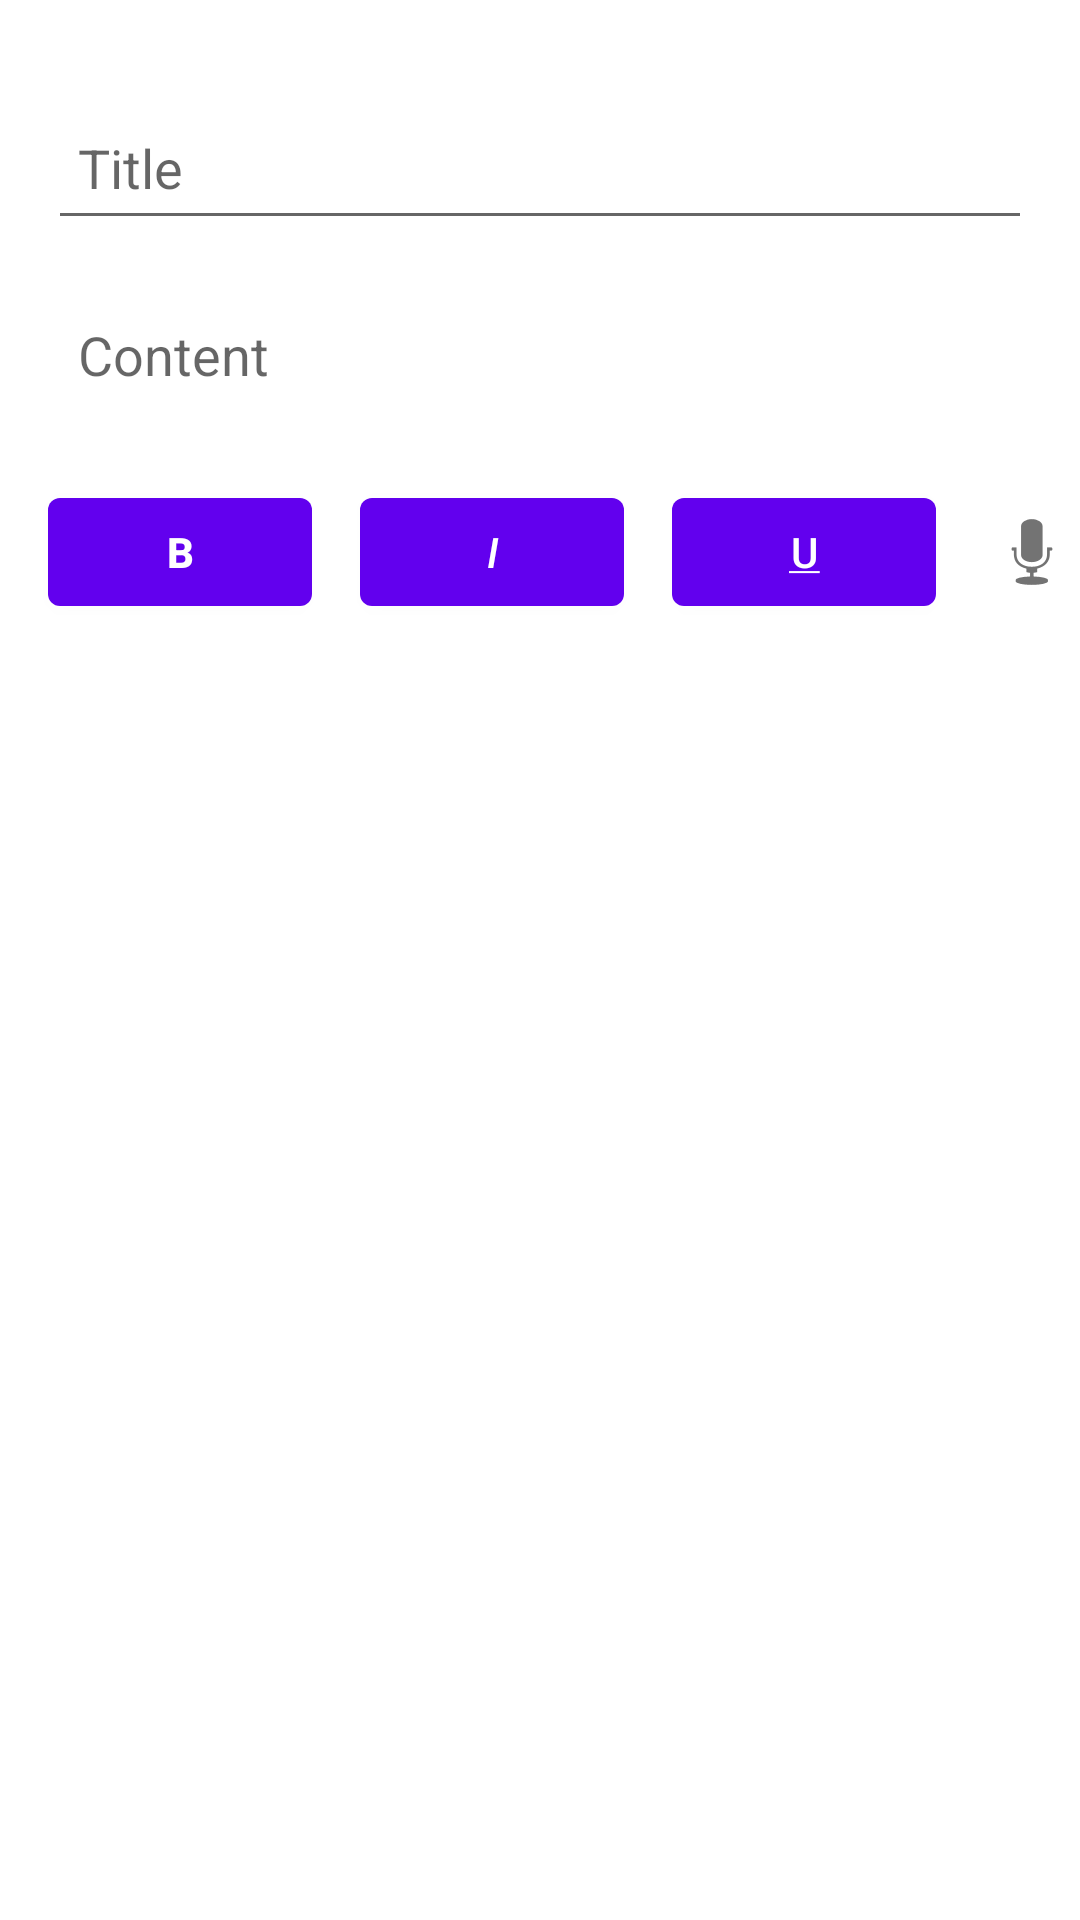

Named icons in this screenshot (1080×1920) and their bounding boxes, Rect(x1, y1, x2, y2):
Speech to text: Rect(1011, 519, 1053, 585)
